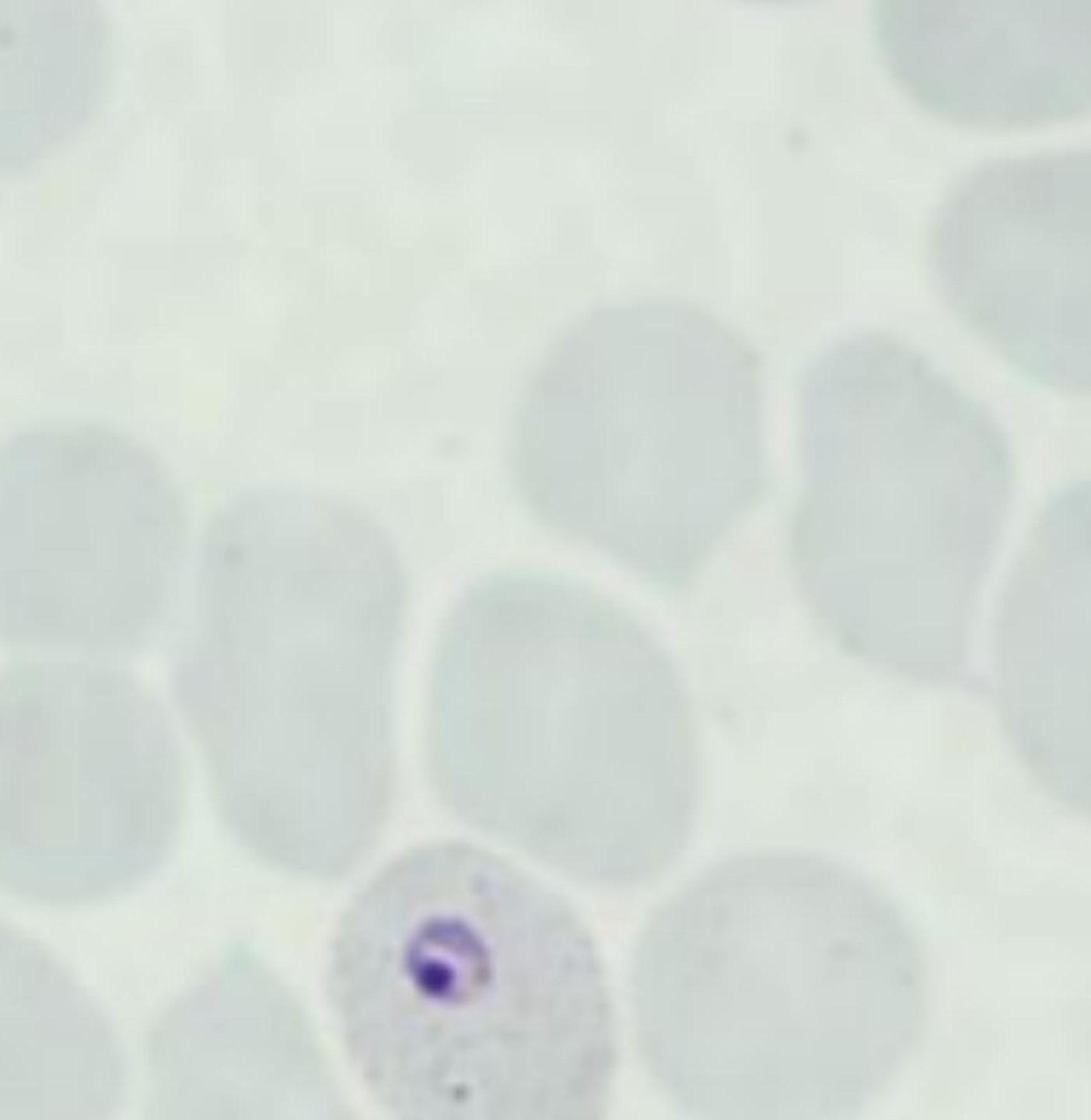Infected: (461, 0, 769, 272)
Uninfected: (689, 237, 914, 639), (389, 234, 669, 556), (75, 426, 301, 790), (166, 0, 467, 272), (327, 519, 574, 826), (897, 200, 1091, 470), (897, 452, 1091, 700), (0, 720, 163, 976)
